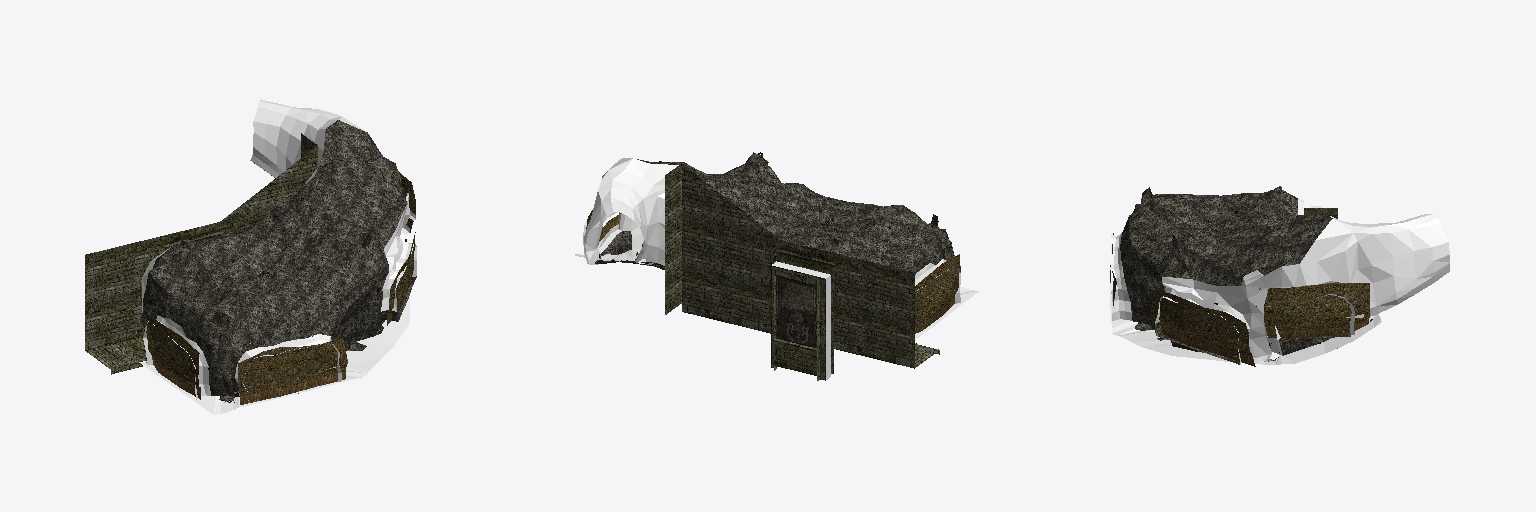
3 renders of one model, left to right at view 1: azimuth 30°, elevation 25°; view 2: azimuth 150°, elevation 25°; view 3: azimuth 270°, elevation 25°, orthographic.
Parts seen in each view (by area): view 1: mesh13, mesh5, mesh3, mesh0, mesh11, mesh1, mesh4; view 2: mesh5, mesh13, mesh3, mesh6, mesh4, mesh0, mesh2, mesh8, mesh7, mesh1; view 3: mesh13, mesh3, mesh0, mesh11, mesh1.
Part boxes in pixels (x1,y1,x2,y2): mesh13: (140, 120, 416, 401); mesh5: (85, 133, 317, 374); mesh3: (142, 99, 416, 414); mesh0: (145, 172, 415, 391); mesh11: (139, 235, 410, 413); mesh1: (152, 218, 413, 404); mesh4: (165, 222, 219, 250); mesh5: (665, 163, 939, 380); mesh13: (600, 153, 954, 274); mesh3: (583, 158, 977, 303); mesh6: (776, 276, 816, 347); mesh4: (774, 240, 833, 375); mesh0: (586, 210, 960, 321); mesh2: (772, 261, 830, 379); mesh8: (586, 224, 640, 264); mesh7: (586, 212, 954, 290); mesh1: (599, 215, 954, 333); mesh13: (1120, 186, 1350, 364); mesh3: (1110, 197, 1449, 364); mesh0: (1110, 233, 1369, 351); mesh11: (1110, 283, 1381, 364); mesh1: (1151, 316, 1368, 366).
Size of the model in its own units: 16.54 by 9 by 15.35.
14 materials, 8 textured.